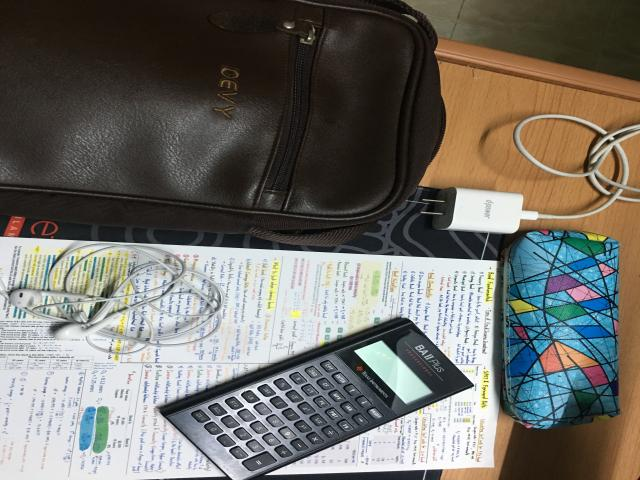paper: (0, 238, 500, 480)
wire: (432, 114, 640, 235), (3, 243, 225, 354)
